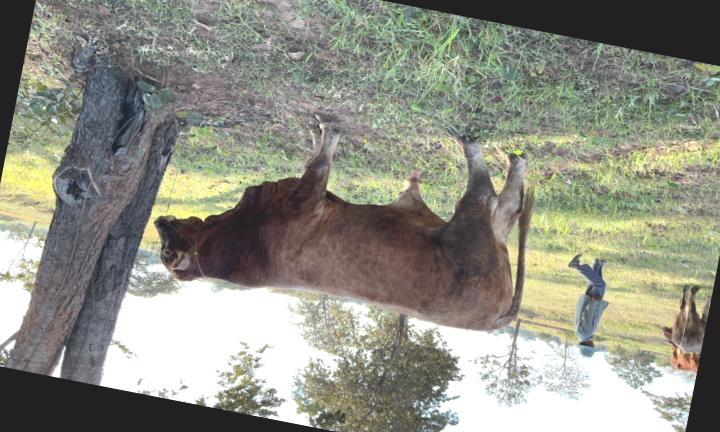Charolais: (154, 115, 533, 330)
